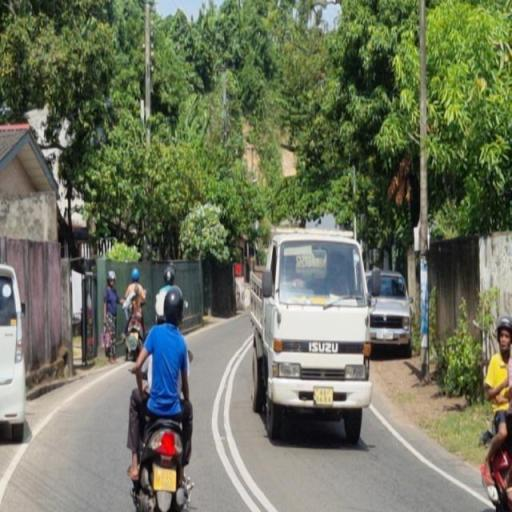double_white_line: (211, 333, 275, 512)
